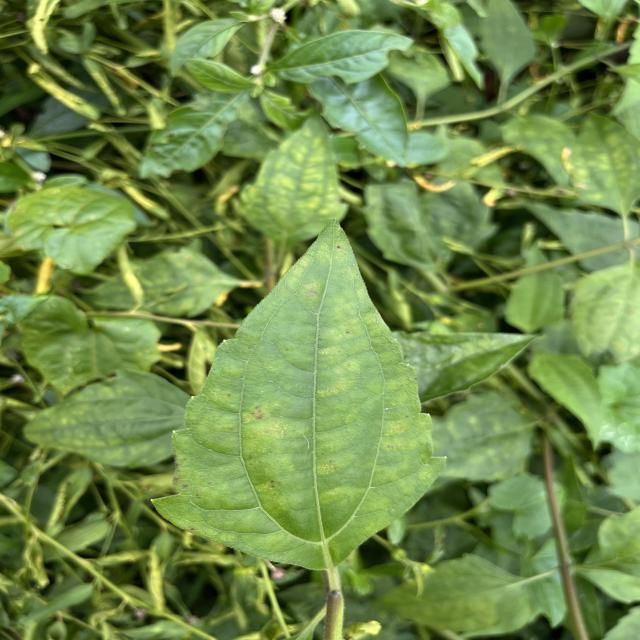Chromolaena odorata: (140, 210, 454, 572)
